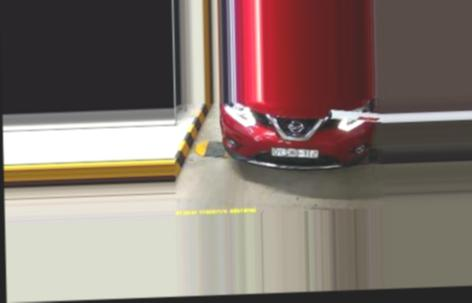License_Plate: (268, 145, 321, 161)
